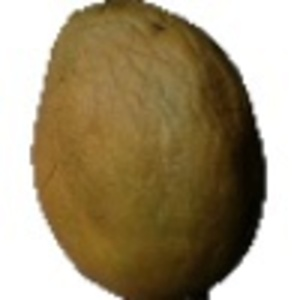mamão: (26, 2, 271, 296)
